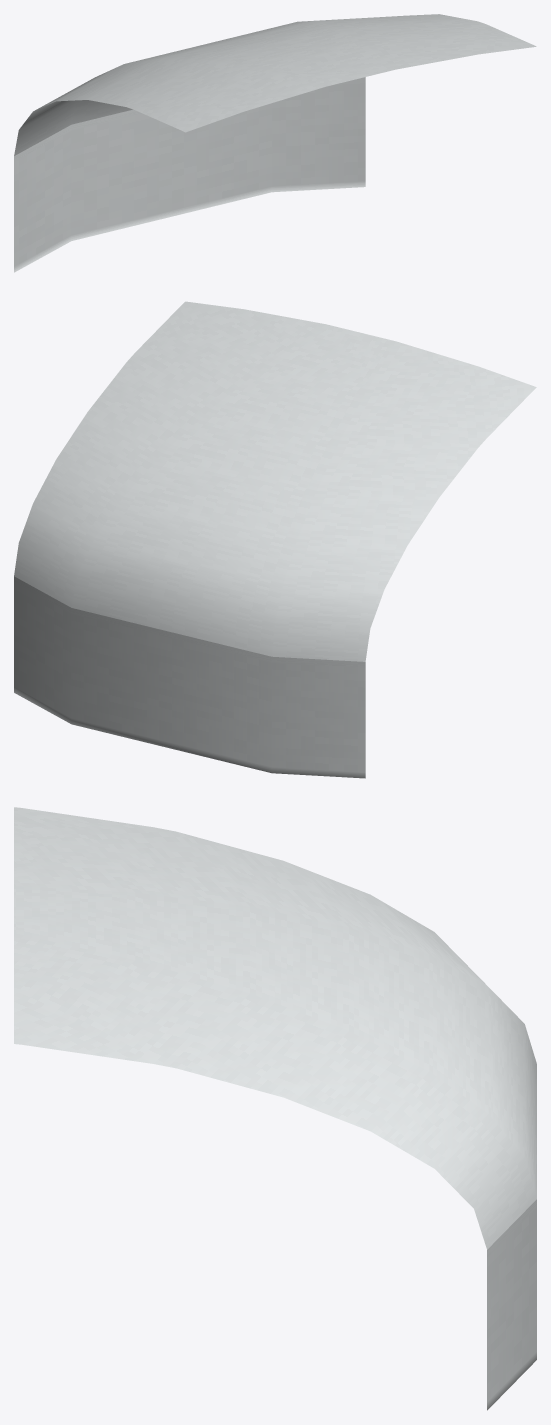
The model's file is spheroid_small_1_1_0.obj.
The picture shows the model from 3 angles, top to bottom: view 1: azimuth 30°, elevation 25°; view 2: azimuth 150°, elevation 25°; view 3: azimuth 270°, elevation 25°; orthographic projection. The views are drawn at different scales.
Parts seen in each view (by area): view 1: spheroid_small_1_1_0; view 2: spheroid_small_1_1_0; view 3: spheroid_small_1_1_0.
Part boxes in pixels (x1=…): spheroid_small_1_1_0: x1=14, y1=14, x2=536, y2=272; spheroid_small_1_1_0: x1=14, y1=301, x2=536, y2=778; spheroid_small_1_1_0: x1=14, y1=807, x2=536, y2=1410.
Size of the model in its own units: 3 by 2.26 by 2.8.
